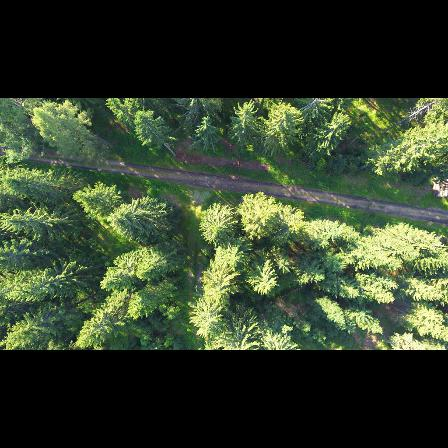Dead: (404, 98, 440, 127)
Sick: (296, 98, 334, 125)
